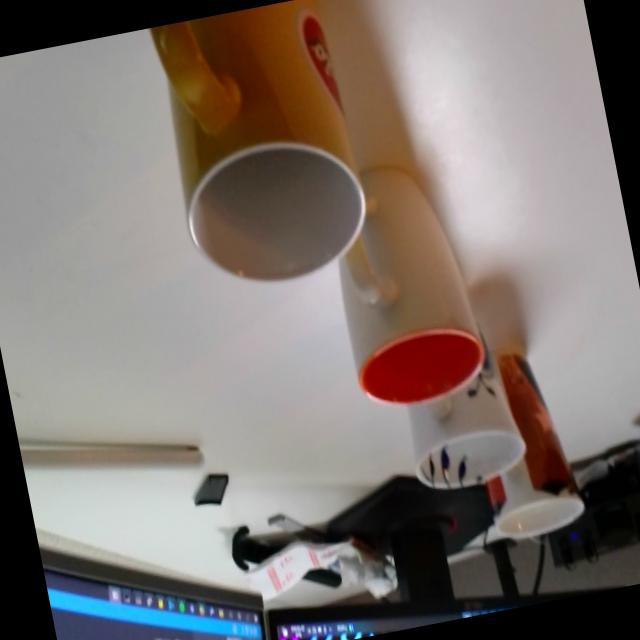cup: (147, 0, 380, 297), (316, 152, 494, 419), (457, 347, 588, 544), (394, 354, 528, 496)
